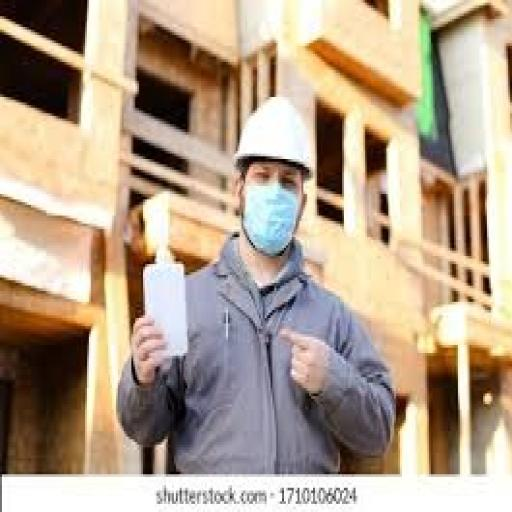mask: (240, 183, 305, 258)
